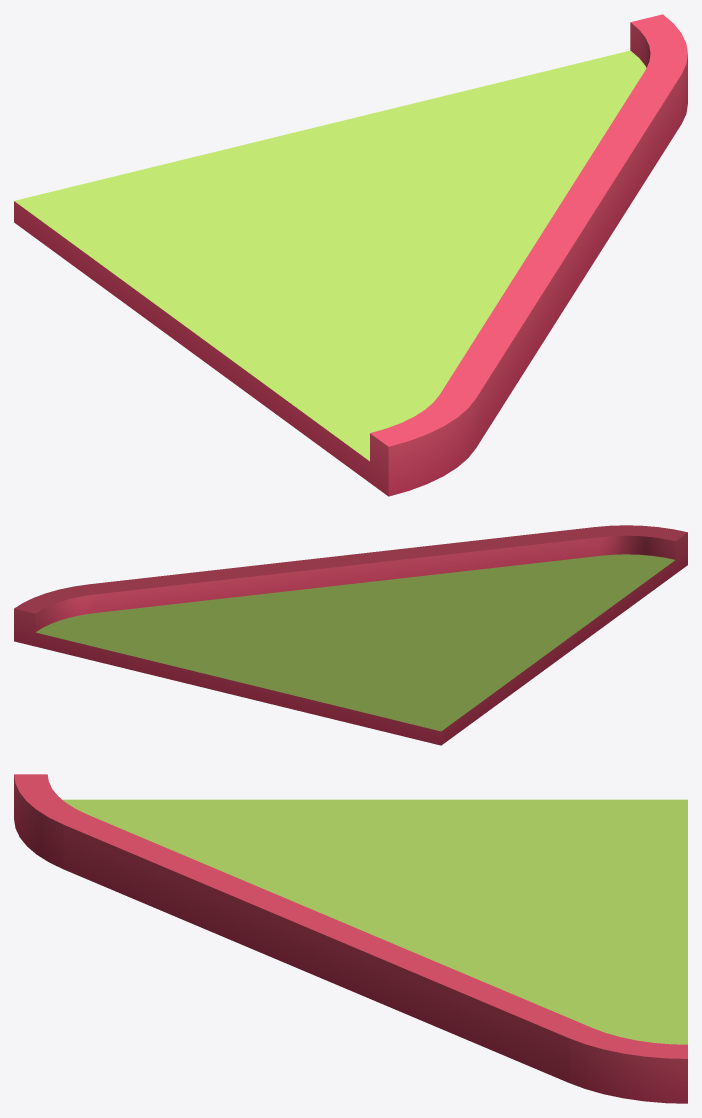
File: skew-large-corner-open.gltf
3 renders of one model, top to bottom at view 1: azimuth 30°, elevation 25°; view 2: azimuth 150°, elevation 25°; view 3: azimuth 270°, elevation 25°, orthographic. The views are drawn at different scales.
Parts seen in each view (by area): view 1: skew-large-corner-open; view 2: skew-large-corner-open; view 3: skew-large-corner-open.
Boxes of the visible parts, bbox=[...] form: skew-large-corner-open: bbox=[14, 14, 687, 496]; skew-large-corner-open: bbox=[14, 525, 687, 745]; skew-large-corner-open: bbox=[14, 774, 687, 1103].
Size of the model in its own units: 2 by 0.1467 by 2.
1 material, 1 textured.
